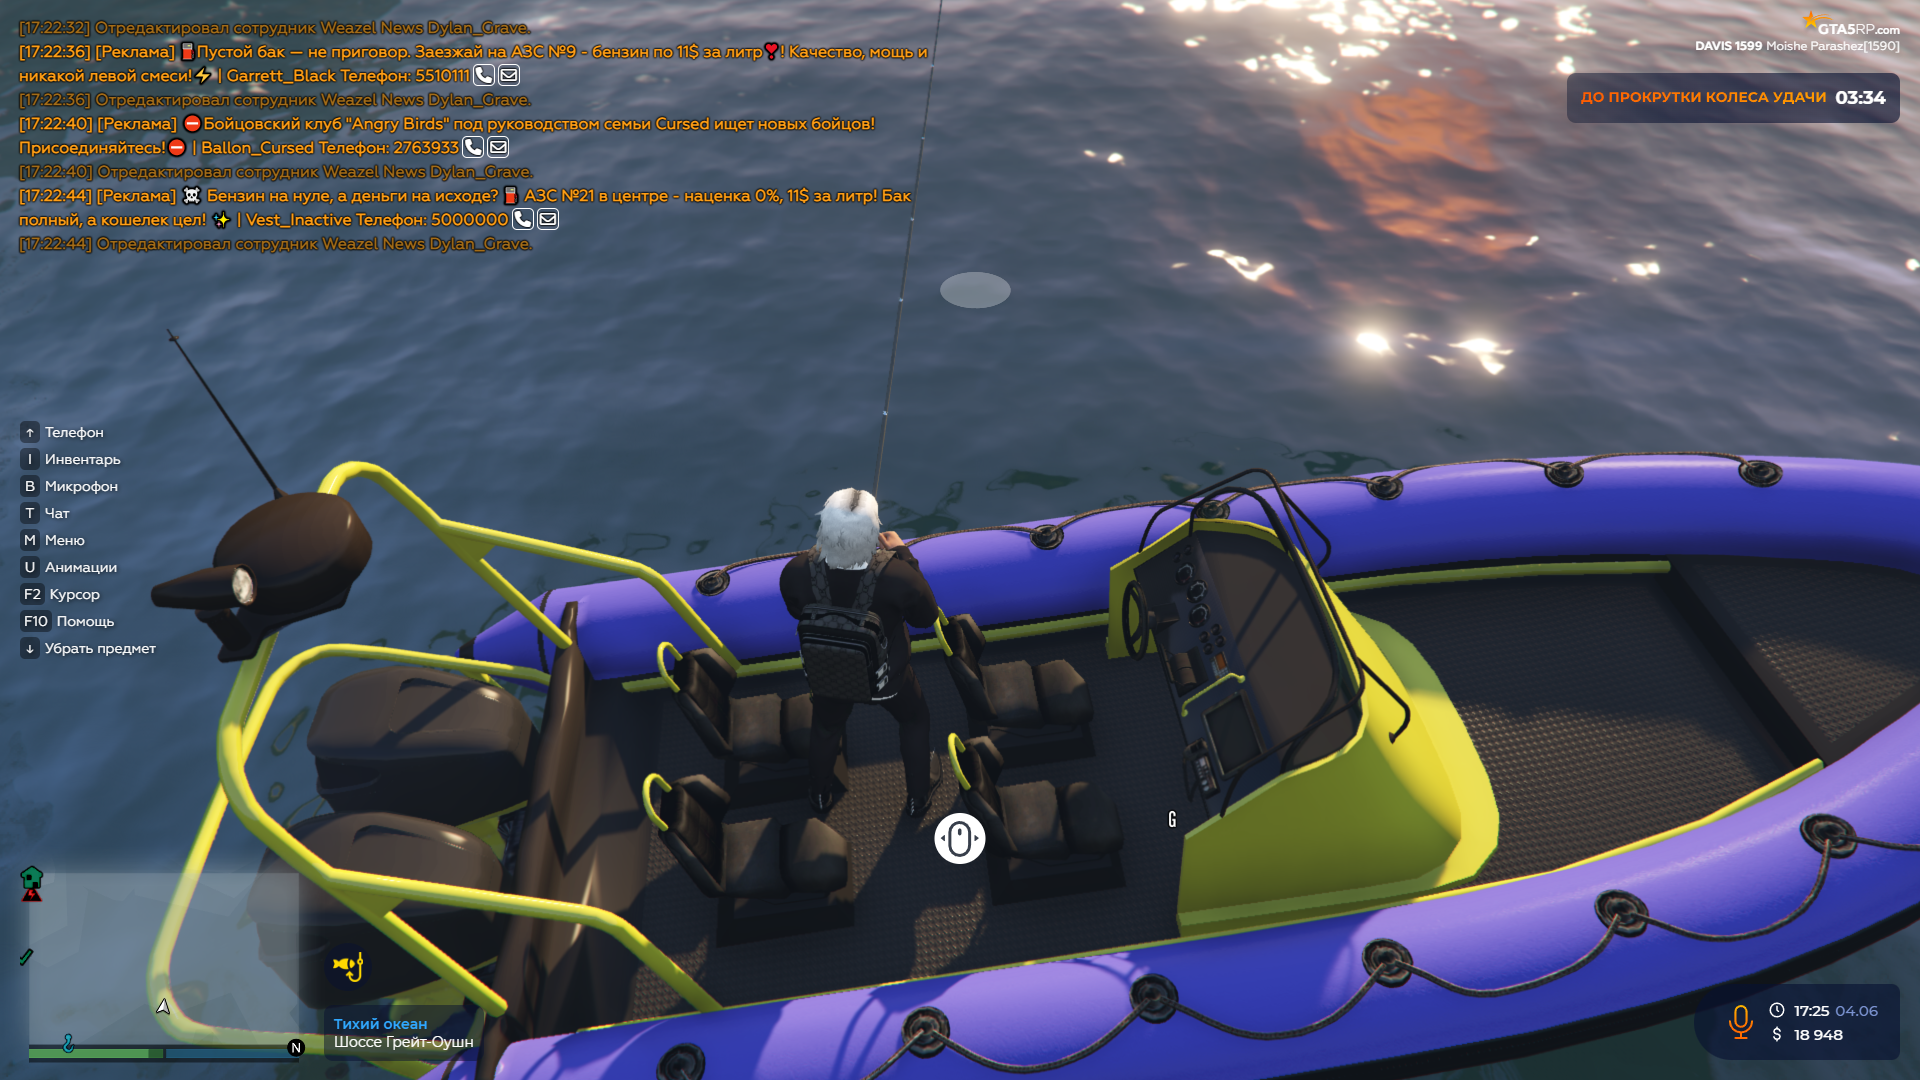circle: (940, 272, 1011, 309)
